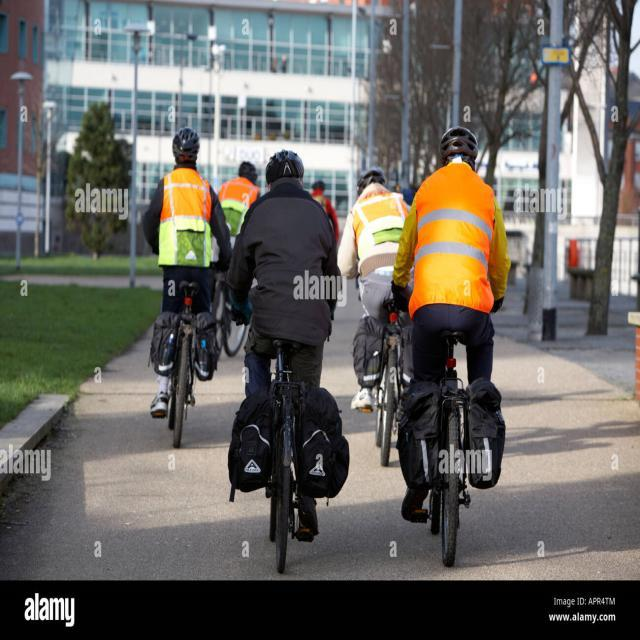reflective_jacket: (408, 164, 499, 314), (154, 166, 215, 273), (350, 184, 407, 286), (216, 173, 260, 252)
